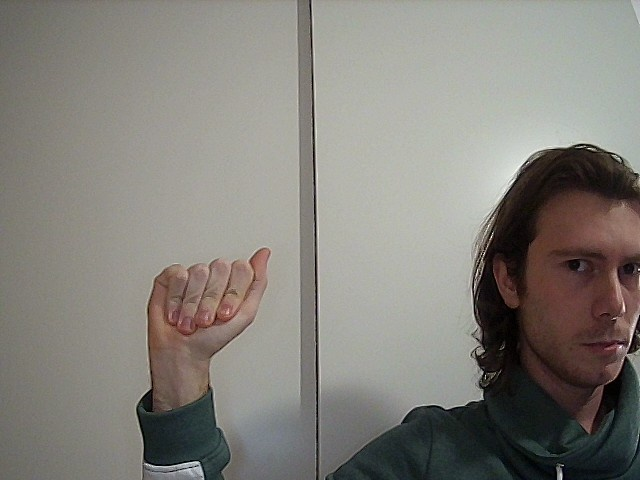a: (134, 243, 284, 367)
